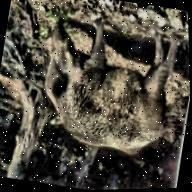boar: (23, 15, 191, 167)
